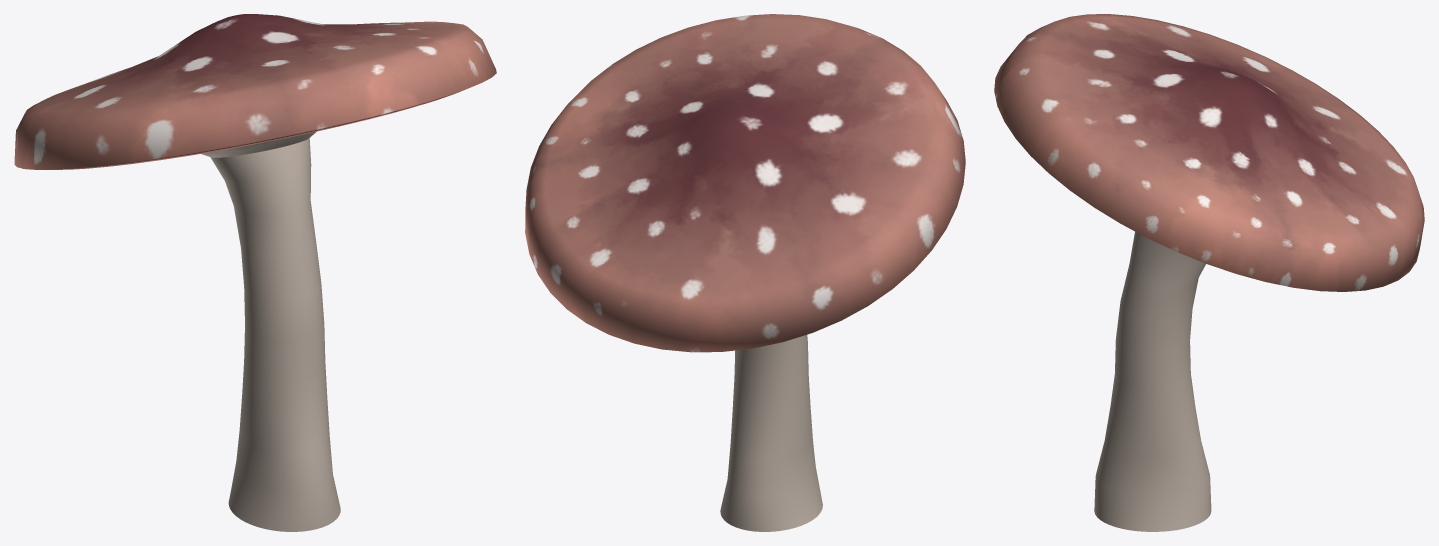
The model's file is wideShroom_V3_Model.fbx.
3 views of the same model, side by side, from view 1: azimuth 30°, elevation 25°; view 2: azimuth 150°, elevation 25°; view 3: azimuth 270°, elevation 25° (orthographic). The views are drawn at different scales.
Visible parts, largest first — view 1: wideShroom_Model; view 2: wideShroom_Model; view 3: wideShroom_Model.
Part boxes in pixels (x1,y1,x2,y2): wideShroom_Model: (14,14,496,531); wideShroom_Model: (525,14,965,531); wideShroom_Model: (994,14,1424,531).
Bounding box in the file's own units: 4.37 × 4.76 × 4.09.
1 material, 1 textured.
